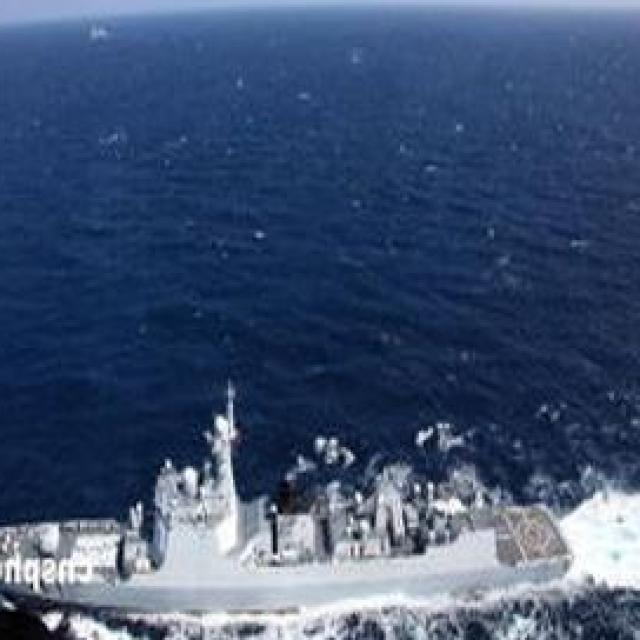navalvessels: (0, 393, 567, 626)
